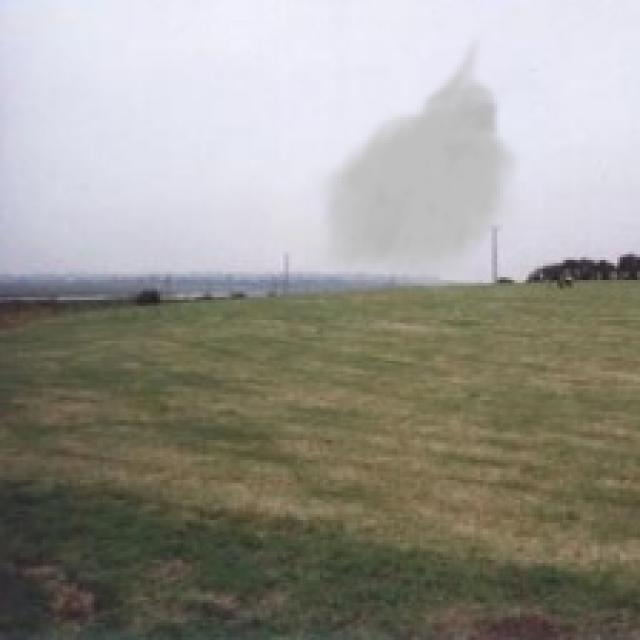Smoke: (306, 28, 526, 292)
